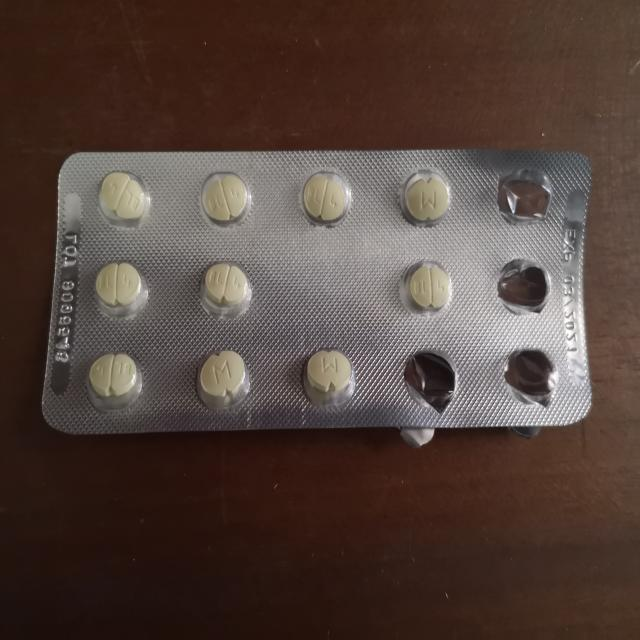Empty: (498, 340, 560, 411), (398, 343, 460, 412), (495, 250, 554, 320), (495, 168, 556, 227)
Pill: (94, 164, 156, 232), (193, 344, 253, 413), (87, 256, 150, 320), (83, 344, 144, 410), (197, 256, 255, 325), (298, 164, 356, 231), (393, 170, 459, 227), (300, 346, 361, 404), (198, 167, 256, 228), (400, 255, 457, 317)
